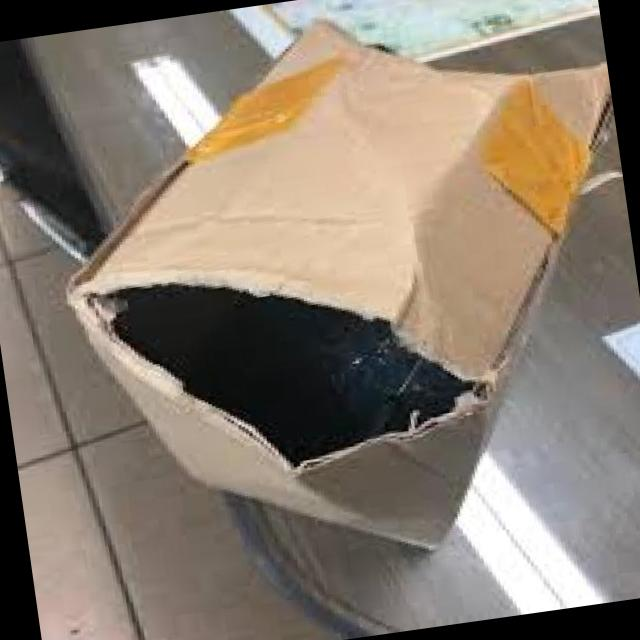box: (82, 103, 555, 551)
